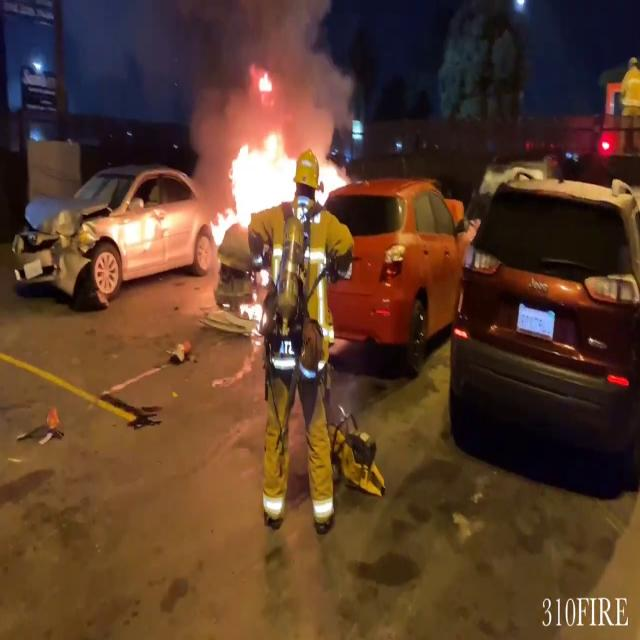Fire: (209, 124, 302, 240)
Smoke: (187, 0, 361, 130)
